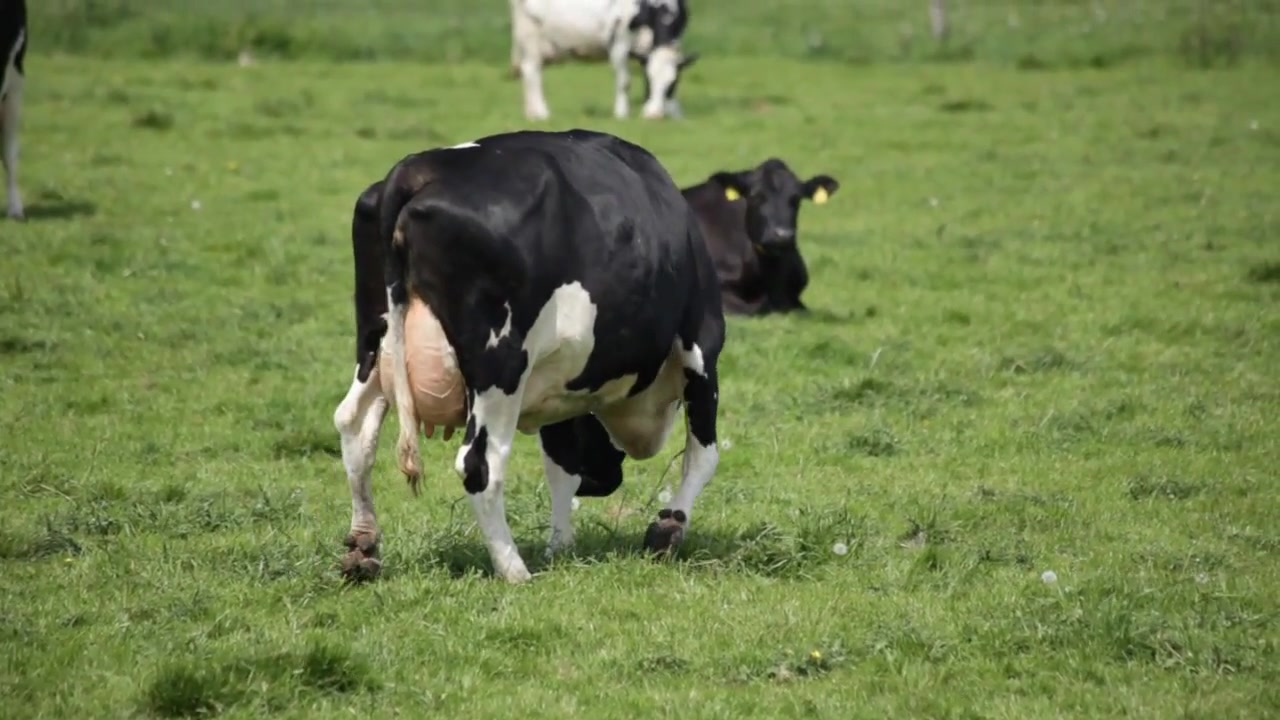cow: (332, 128, 731, 583)
